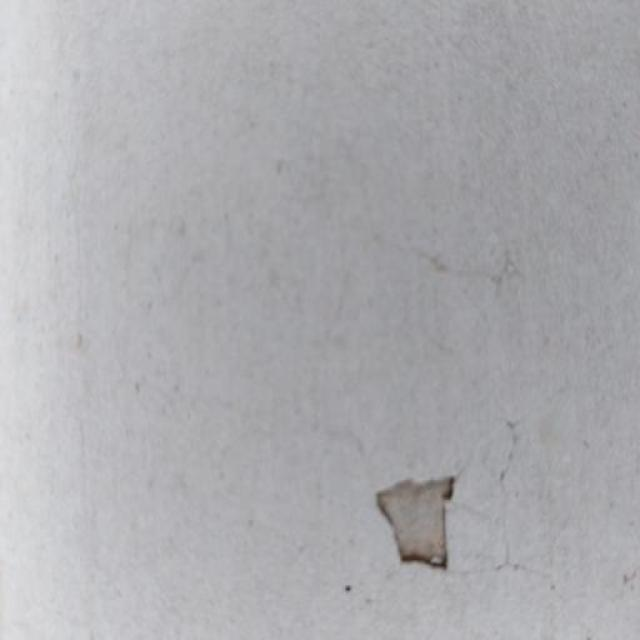D10: (374, 478, 455, 571)
